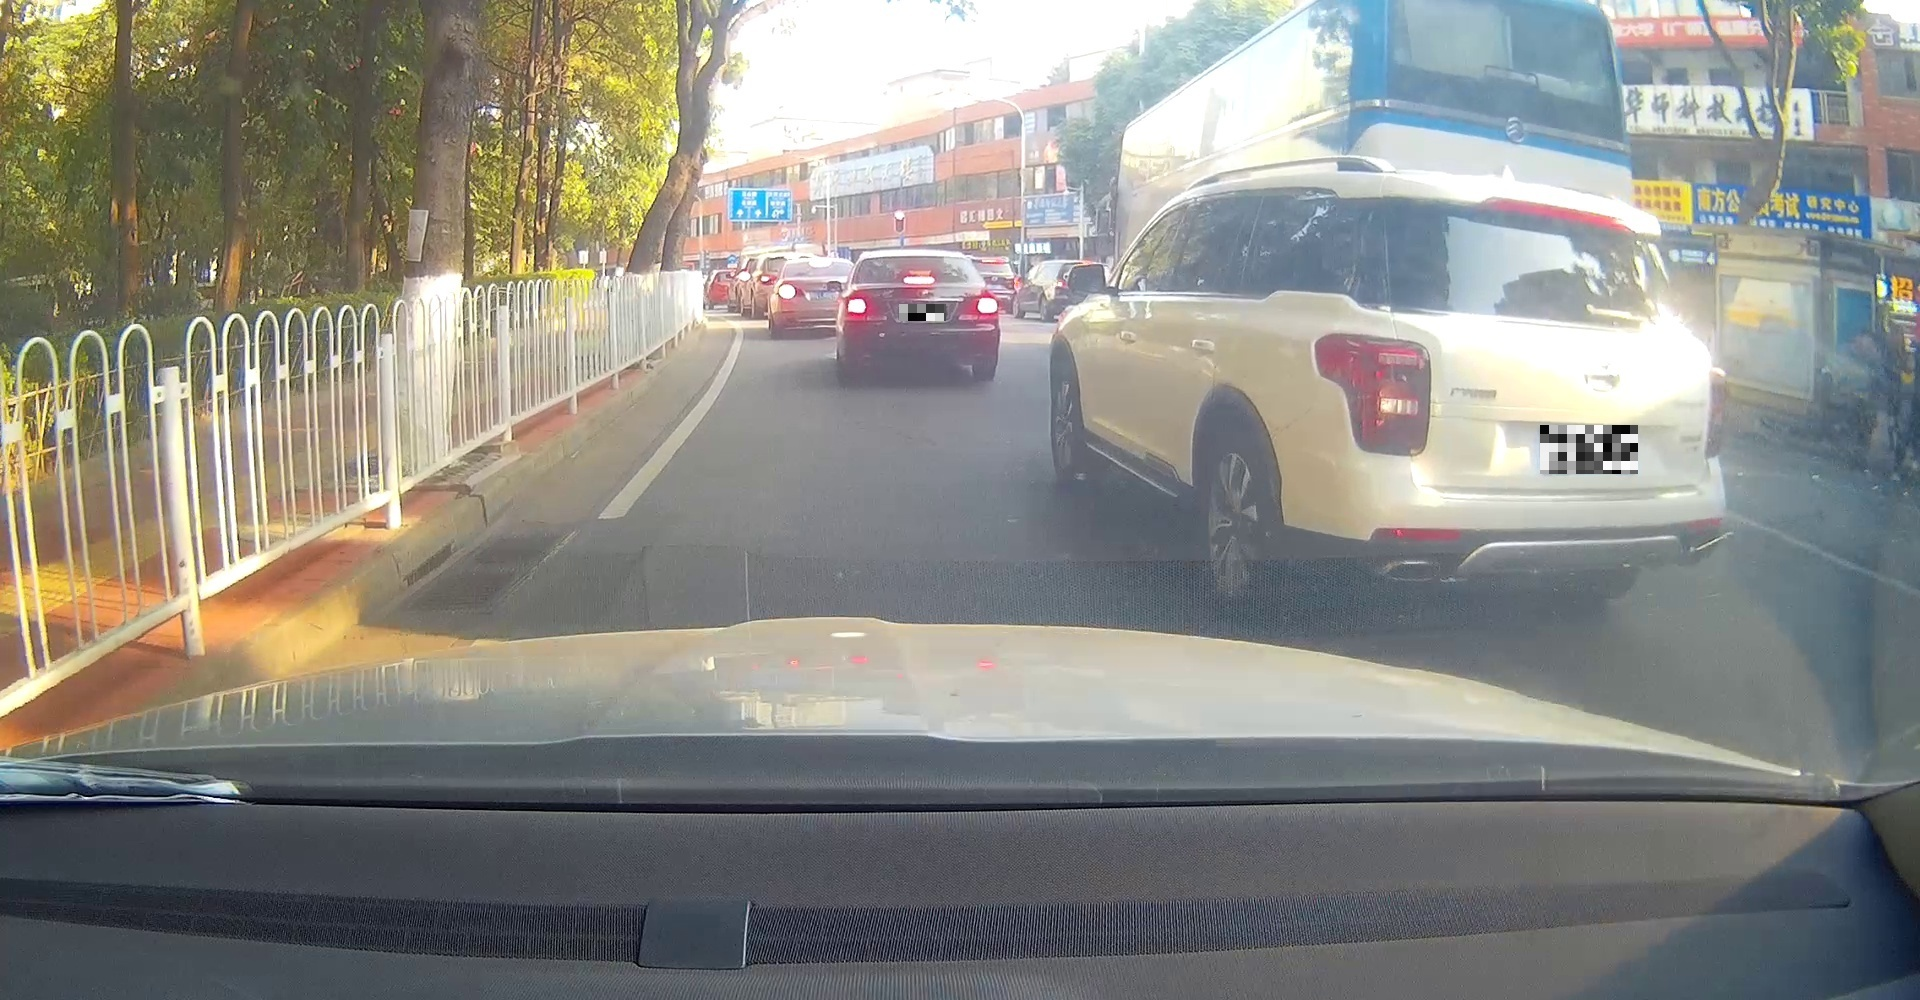L_light: (1313, 330, 1434, 457), (846, 297, 872, 316)
R_light: (1702, 359, 1731, 459), (971, 294, 999, 316)
T_light: (1477, 197, 1634, 239), (902, 275, 936, 286)
day-brake: (843, 247, 1001, 379)
day-no: (1305, 169, 1735, 602)
plate_1: (899, 305, 946, 321)
plate_2: (1540, 425, 1638, 475)
